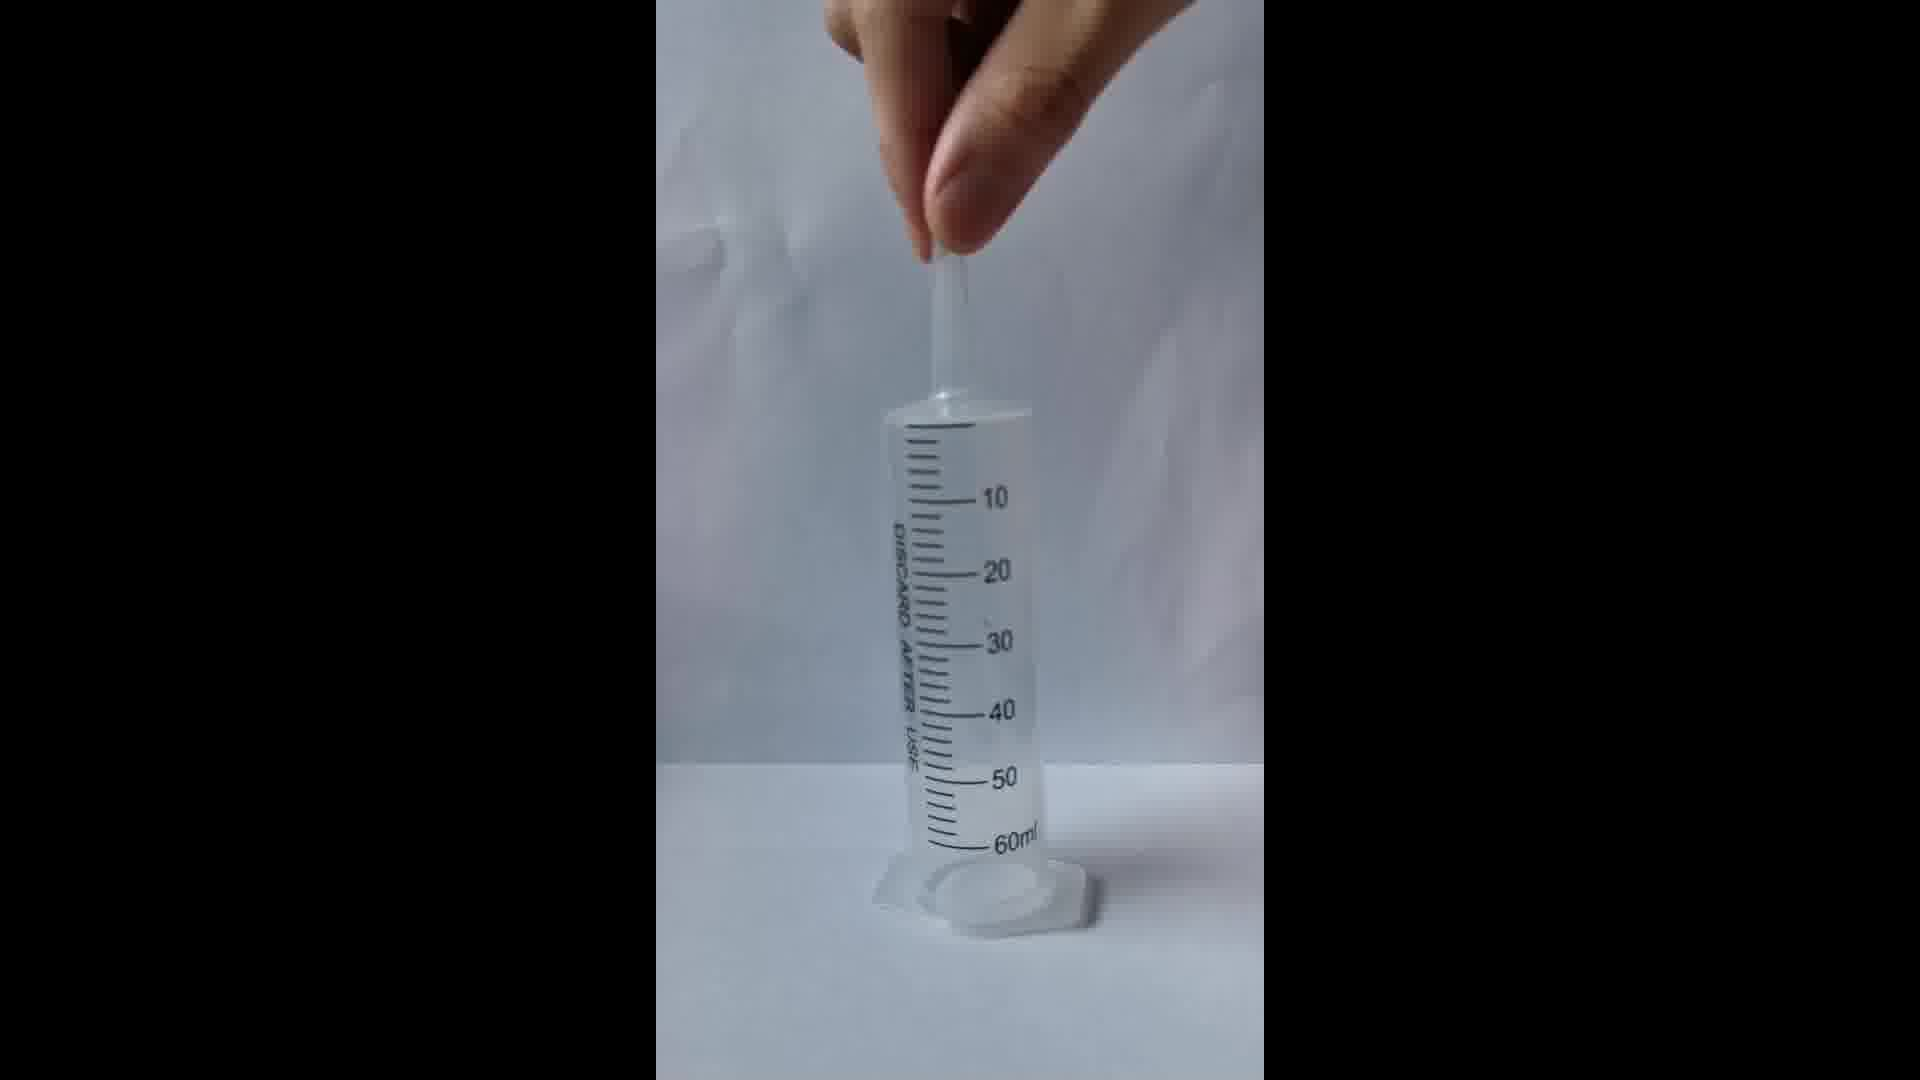syringe: (852, 274, 1112, 938)
